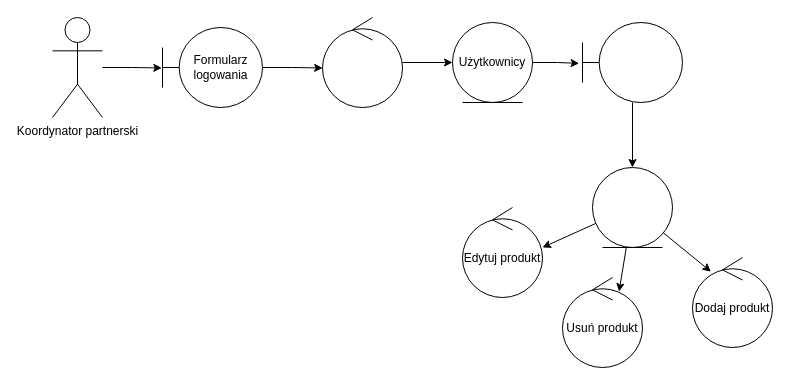
The diagram is 790 pixels wide and 385 high, and some of its shapes have lost their labels. The centre of each missing label's shape, as x and y in pixels:
"Logowanie" belongs at point 362,62.
"Produkt" belongs at point 632,207.
"Zarządzaj produktami" belongs at point 632,62.
